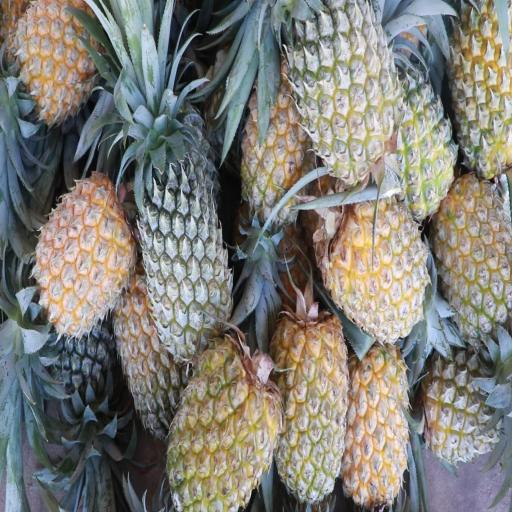------------------------------: (281, 0, 397, 176), (120, 274, 192, 438), (436, 185, 512, 329), (451, 12, 512, 177), (422, 354, 504, 466)
Pineapple - v8 v1: (167, 345, 283, 512), (41, 171, 136, 333), (329, 189, 430, 337), (272, 312, 346, 498), (17, 0, 112, 114), (344, 348, 408, 503), (241, 81, 304, 224), (388, 79, 454, 212)
